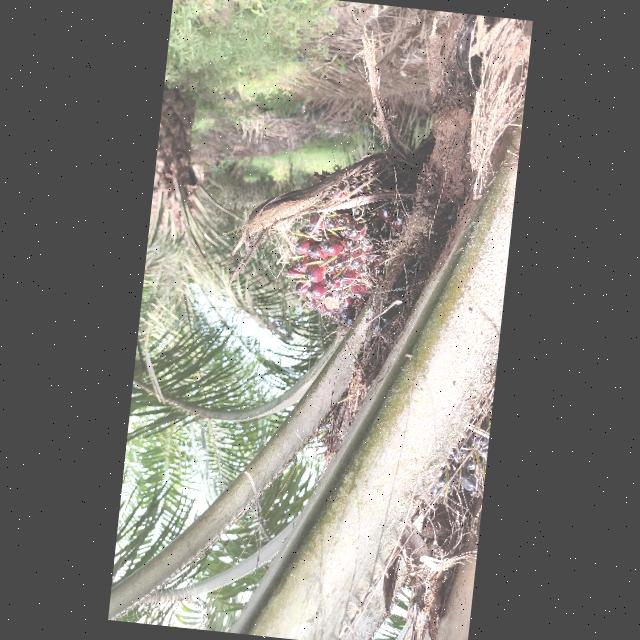Ripe: (283, 191, 401, 316)
